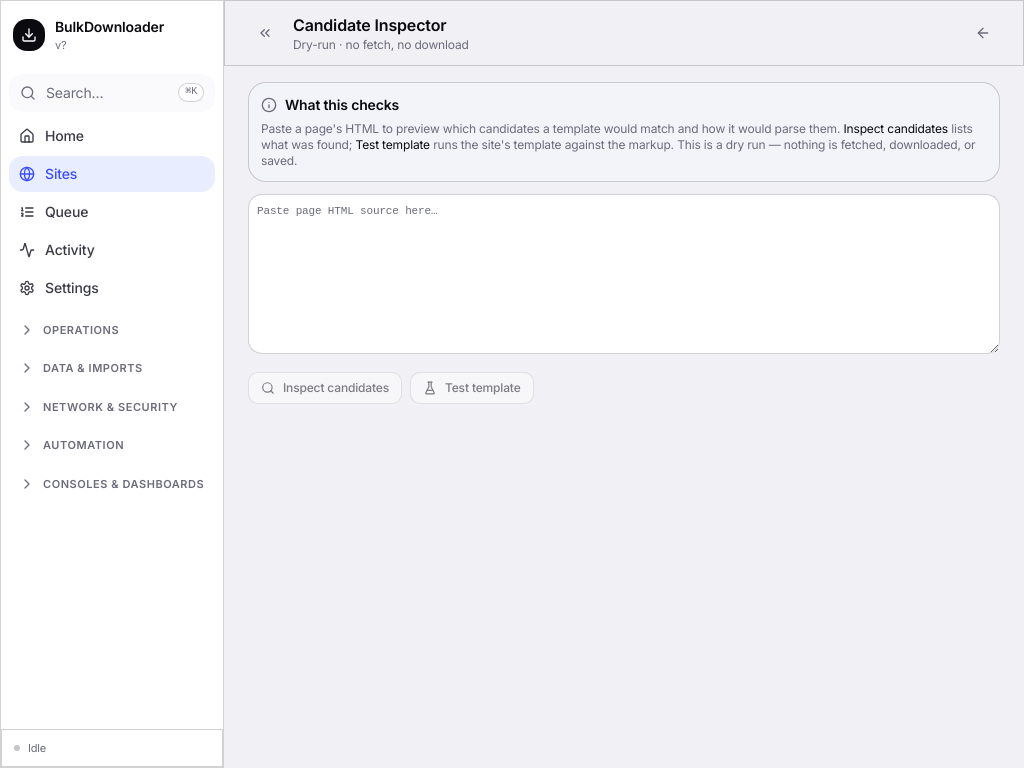
Test: DryRunInspector F010 › no template: no green check beside the no-template badge
The width and height of the screenshot is (1024, 768).
Step 1. Type "<video src='x.mp4'>Direct Video</video>" into the text box with placeholder "Paste page HTML source here…" → (624, 274), box [248,194,1000,354]
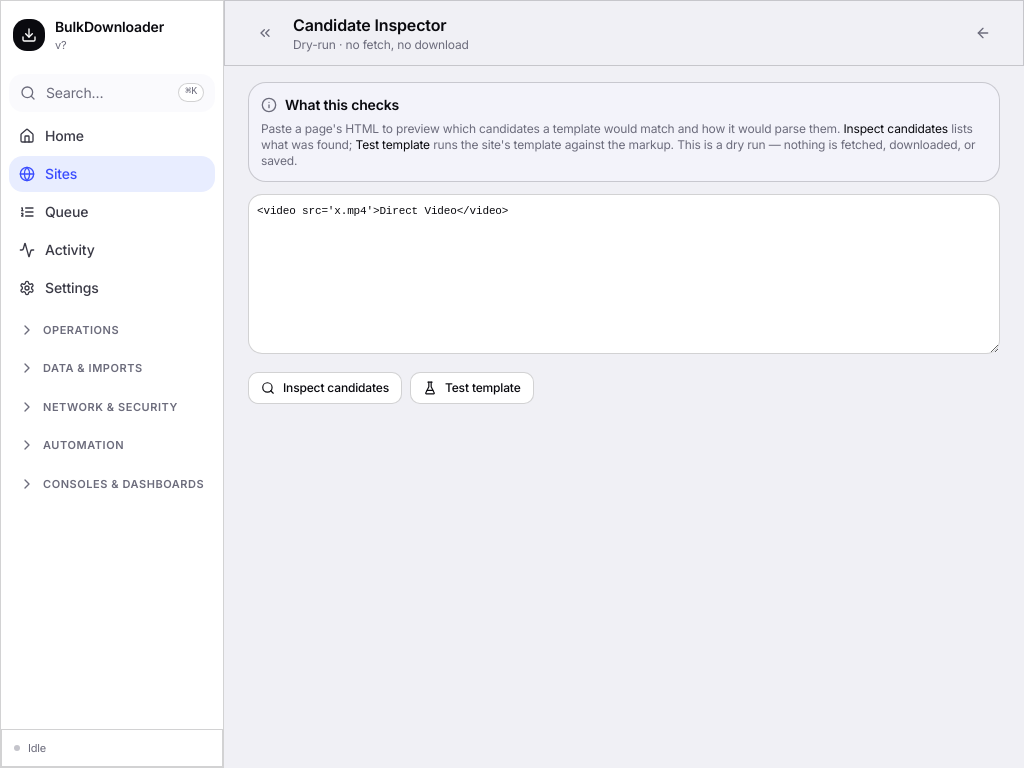
Step 2. Click the button "Test template" → (472, 388), box [410,372,534,404]
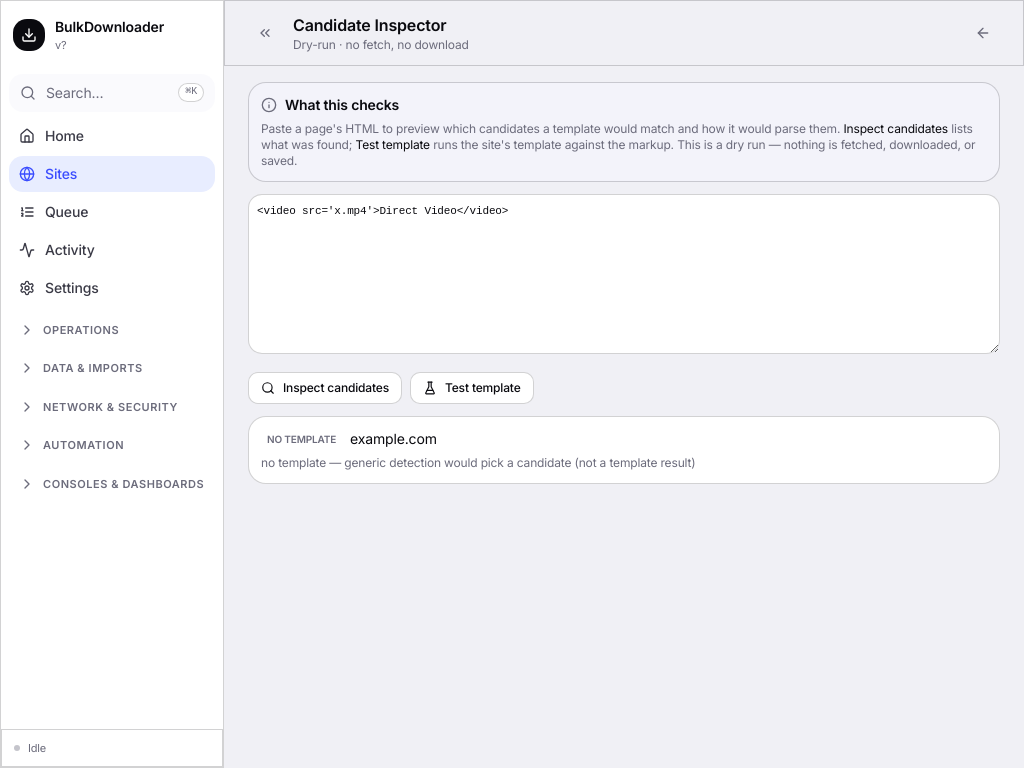
Check: the text "no template" is shown, box [261,430,342,448]
